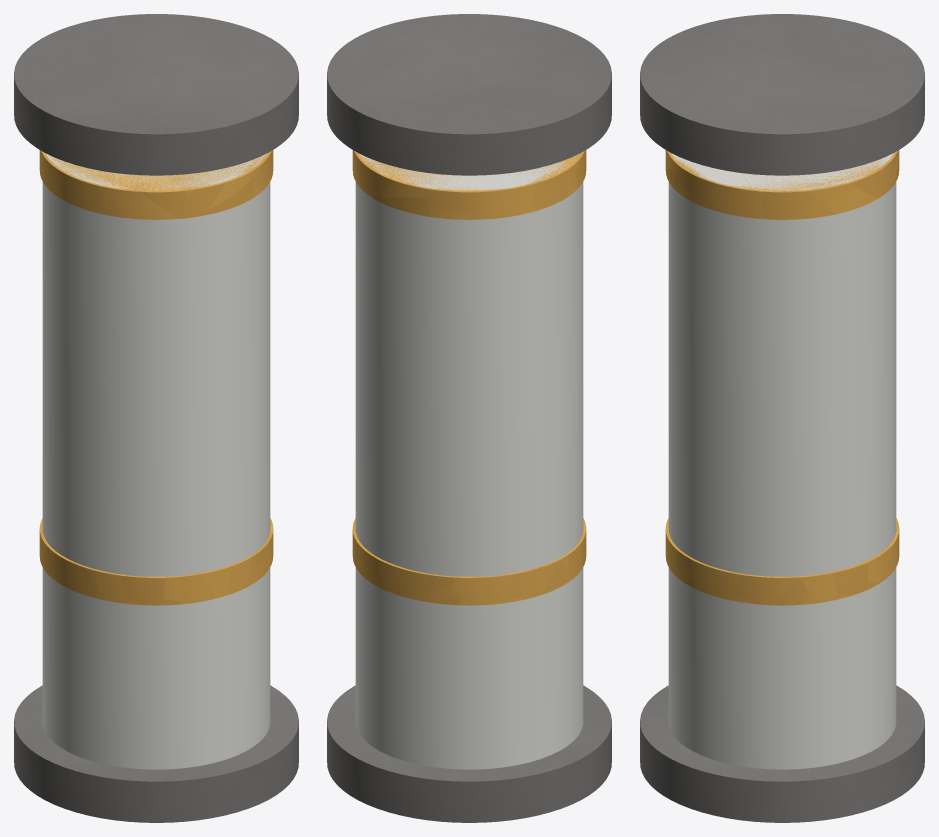
File: robo02_piston_m.glb
3 views of the same model, side by side, from view 1: azimuth 30°, elevation 25°; view 2: azimuth 150°, elevation 25°; view 3: azimuth 270°, elevation 25° (orthographic).
Visible parts, largest first — view 1: barrel, rod_plate, base_plate, barrel_bands; view 2: barrel, rod_plate, base_plate, barrel_bands; view 3: barrel, rod_plate, base_plate, barrel_bands.
Part boxes in pixels (bbox=[...]): barrel: bbox=[42, 153, 270, 769]; rod_plate: bbox=[14, 14, 298, 175]; base_plate: bbox=[14, 685, 298, 822]; barrel_bands: bbox=[39, 150, 273, 605]; barrel: bbox=[355, 153, 583, 769]; rod_plate: bbox=[327, 14, 611, 175]; base_plate: bbox=[327, 685, 611, 822]; barrel_bands: bbox=[352, 150, 586, 605]; barrel: bbox=[668, 153, 896, 769]; rod_plate: bbox=[640, 14, 924, 175]; base_plate: bbox=[640, 685, 924, 822]; barrel_bands: bbox=[665, 150, 899, 605].
Size of the model in its own units: 0.5996 by 1.6 by 0.5998.
4 materials, 3 textured.
